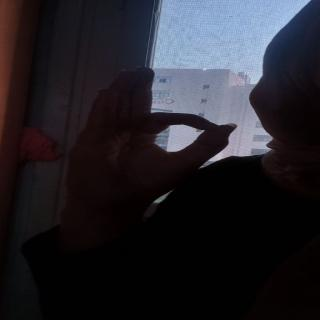Space: (56, 68, 237, 208)
